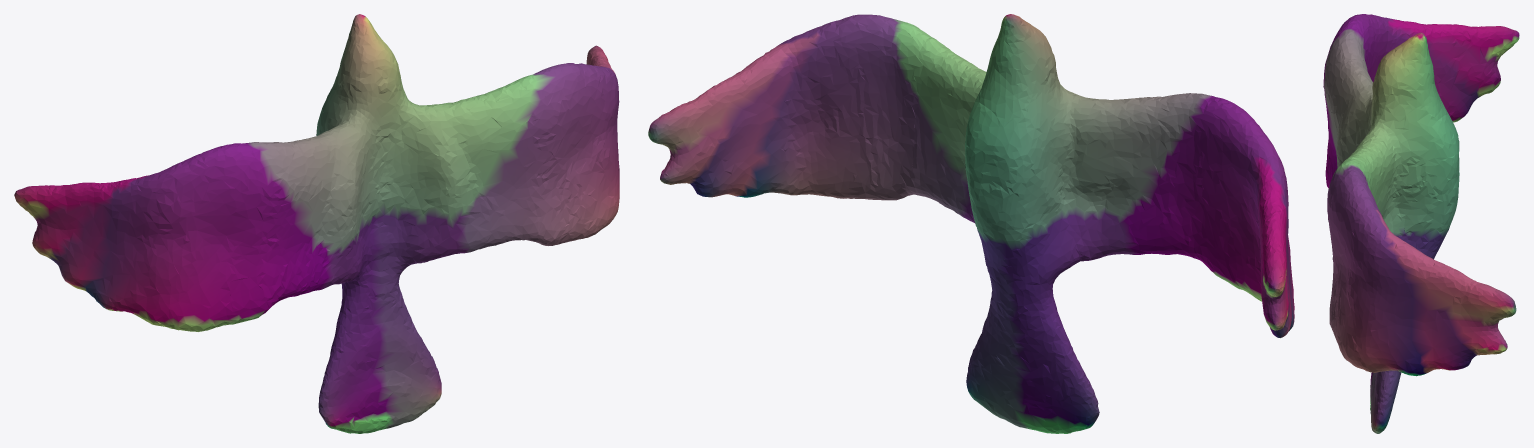
The model's file is bird1-2.off.obj.
The picture shows the model from 3 angles, left to right: view 1: azimuth 30°, elevation 25°; view 2: azimuth 150°, elevation 25°; view 3: azimuth 270°, elevation 25°; orthographic projection. The views are drawn at different scales.
Size of the model in its own units: 1.67 by 1.09 by 0.4988.
